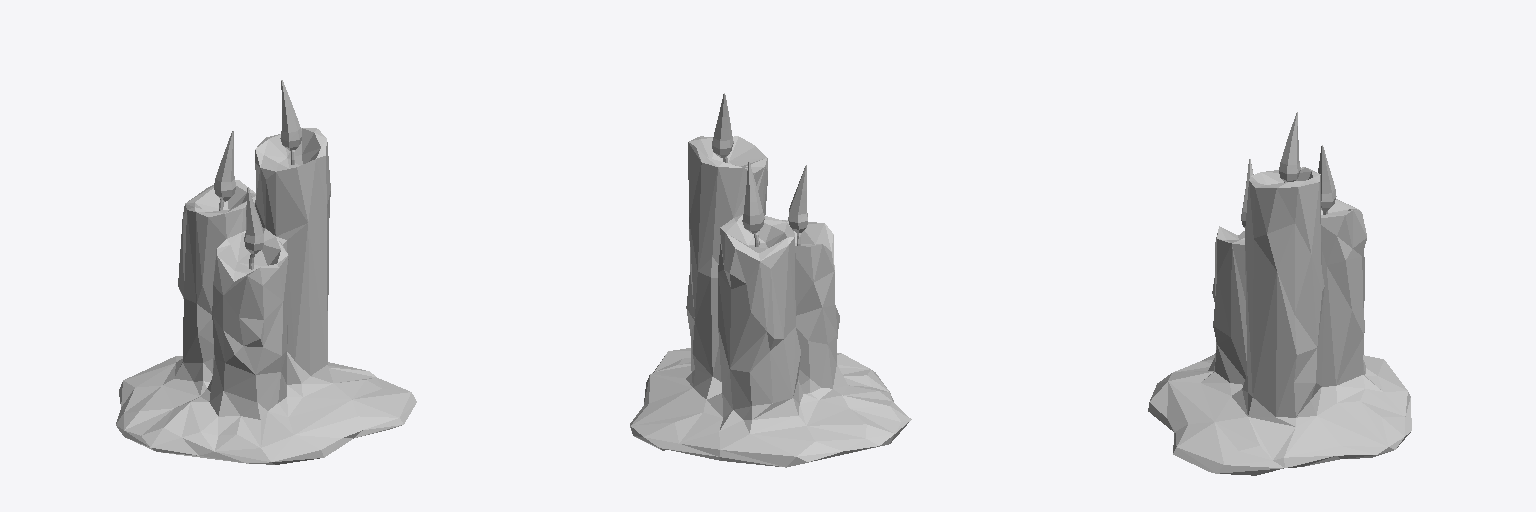
The model's file is candle5.obj.
The picture shows the model from 3 angles: view 1: azimuth 30°, elevation 25°; view 2: azimuth 150°, elevation 25°; view 3: azimuth 270°, elevation 25°; orthographic projection.
Parts seen in each view (by area): view 1: Object003, candleflame002, candleflame003, candleflame001; view 2: Object003, candleflame002, candleflame001, candleflame003; view 3: Object003, candleflame003, candleflame002.
Part boxes in pixels (left/top/right/bottom): Object003: left=116, top=128, right=416, bottom=464; candleflame002: left=214, top=131, right=235, bottom=201; candleflame003: left=280, top=80, right=301, bottom=150; candleflame001: left=244, top=187, right=263, bottom=253; Object003: left=630, top=136, right=911, bottom=467; candleflame002: left=742, top=162, right=764, bottom=233; candleflame001: left=788, top=165, right=807, bottom=232; candleflame003: left=712, top=93, right=733, bottom=157; Object003: left=1148, top=167, right=1411, bottom=475; candleflame003: left=1279, top=112, right=1300, bottom=181; candleflame002: left=1318, top=145, right=1336, bottom=211.
Size of the model in its own units: 1.05 by 1.24 by 0.9231.